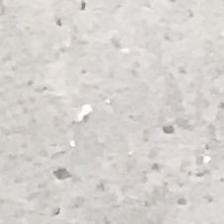Non_Crack: (94, 0, 224, 208)
